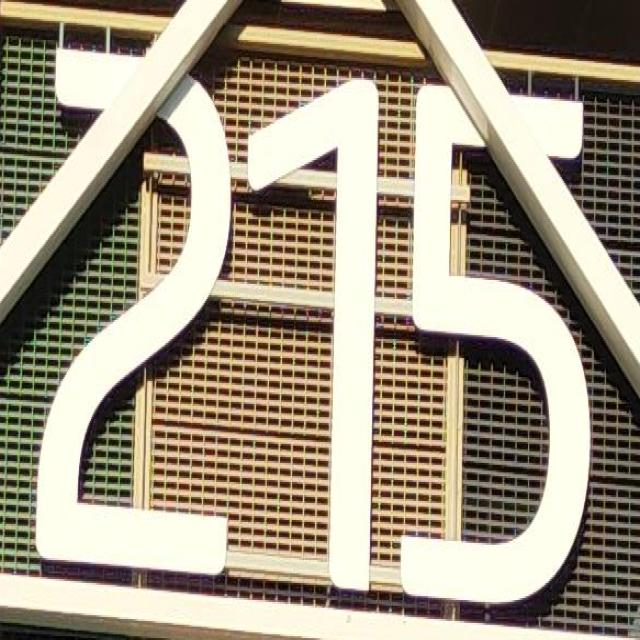character: (33, 44, 235, 586), (398, 80, 593, 608), (246, 74, 384, 599)
